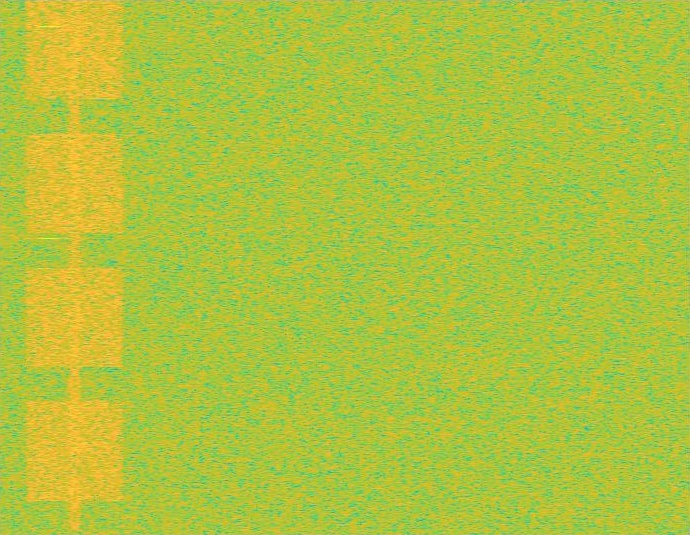5G: (23, 0, 127, 534)
DSSS: (68, 0, 82, 534)
Radar: (42, 0, 56, 534)
